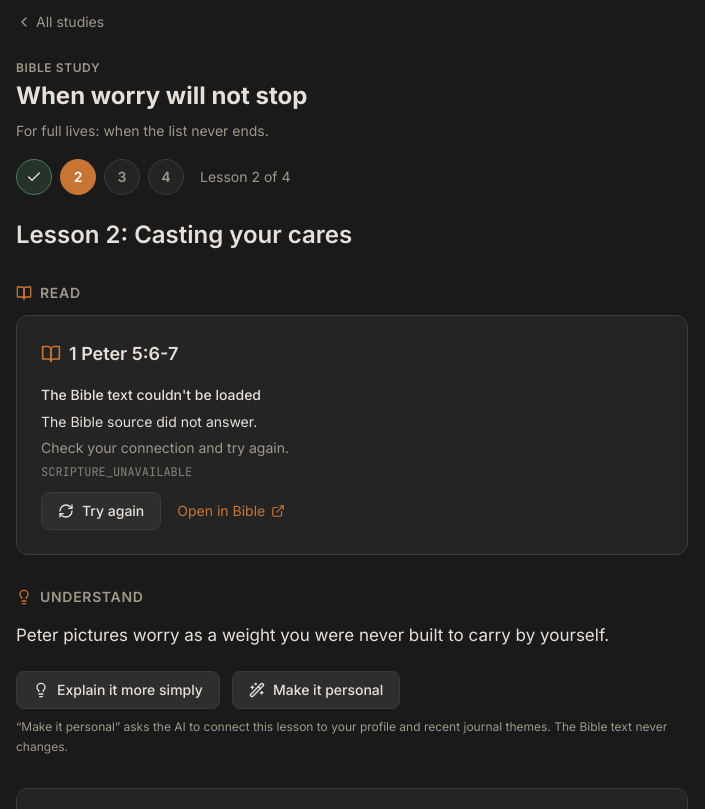
Test case: StudyPage › still shows the reference, the reason and a retry when the Bible text is missing
Expected: the heading "1 Peter 5:6-7" is shown, [69,340,178,368]
Expected: the text "The Bible source did not answer." is shown, [41,412,257,430]
Click the button "Try again" at [101, 511], box [41,492,161,530]
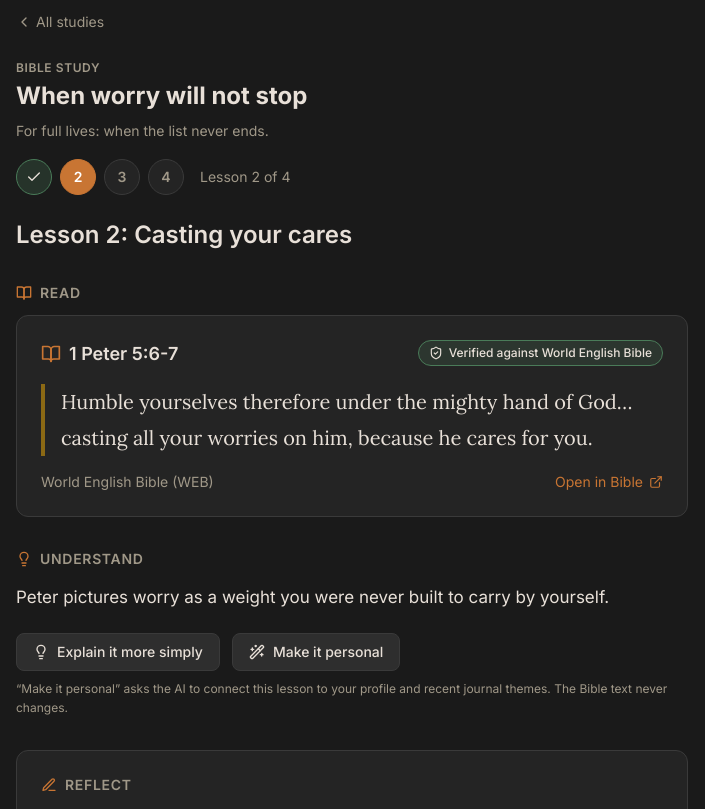
Expected: the text "casting all your worries on him" is shown, [61,389,638,450]
